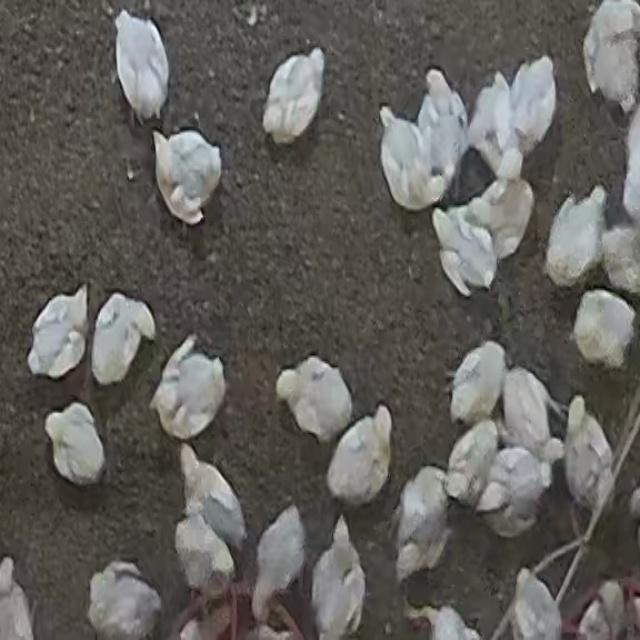chicken: (175, 442, 247, 560), (150, 127, 225, 233), (152, 337, 226, 442), (415, 66, 472, 195), (376, 104, 444, 208), (472, 147, 533, 261), (276, 356, 354, 443), (385, 472, 449, 578), (325, 407, 392, 507), (580, 0, 640, 111), (246, 507, 304, 620), (264, 50, 328, 151), (544, 188, 606, 287), (90, 292, 155, 386), (483, 448, 557, 530), (27, 284, 90, 380), (563, 398, 617, 508), (113, 13, 166, 125), (313, 514, 360, 638), (87, 560, 154, 640), (44, 402, 106, 487), (434, 212, 492, 297), (173, 515, 233, 597), (439, 429, 501, 506), (572, 290, 632, 369), (442, 341, 502, 420), (510, 54, 557, 149), (502, 365, 547, 457), (471, 71, 513, 163), (511, 569, 555, 640), (0, 551, 35, 640), (580, 581, 629, 640)
